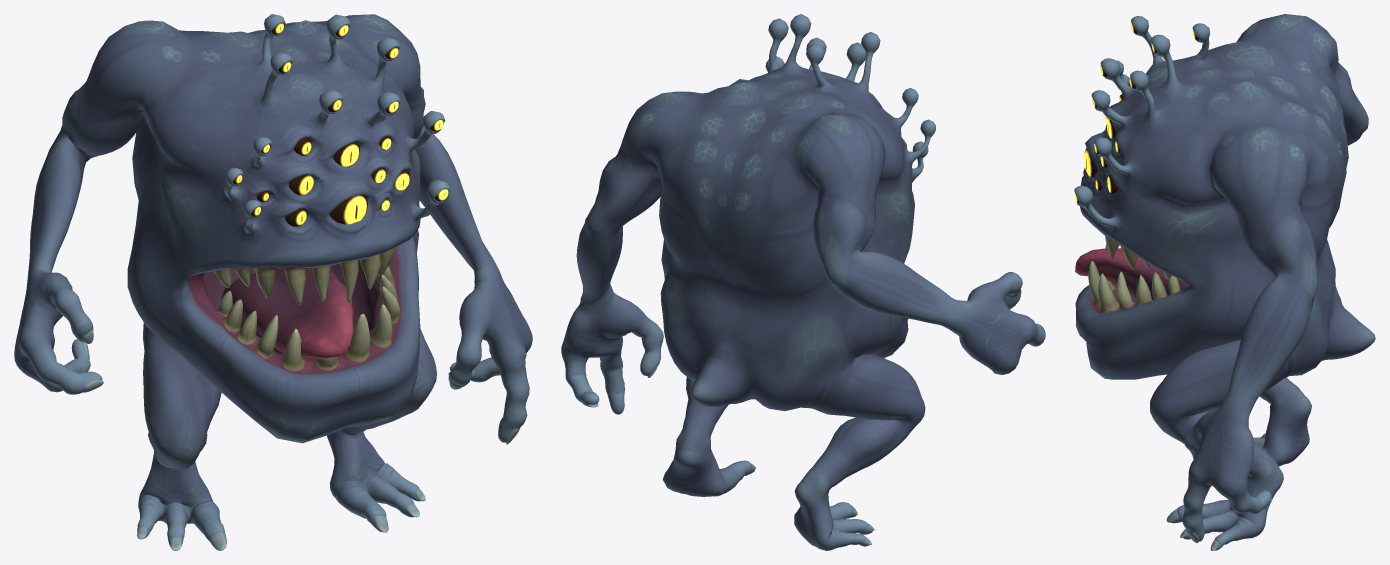
Rendered from stone_demon.glb.
3 views of the same model, side by side, from view 1: azimuth 30°, elevation 25°; view 2: azimuth 150°, elevation 25°; view 3: azimuth 270°, elevation 25° (orthographic). The views are drawn at different scales.
Visible parts, largest first — view 1: Object_2; view 2: Object_2; view 3: Object_2.
Boxes of the visible parts, x1=… form: Object_2: x1=14, y1=14, x2=532, y2=550; Object_2: x1=561, y1=14, x2=1045, y2=550; Object_2: x1=1074, y1=14, x2=1375, y2=550.
Size of the model in its own units: 1.97 by 1.93 by 1.13.
1 material, 1 textured.
